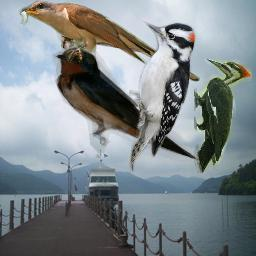Cuckoo: (16, 0, 201, 82)
Swallow: (52, 45, 199, 162)
Woodpecker: (129, 16, 202, 172), (194, 59, 252, 173)
